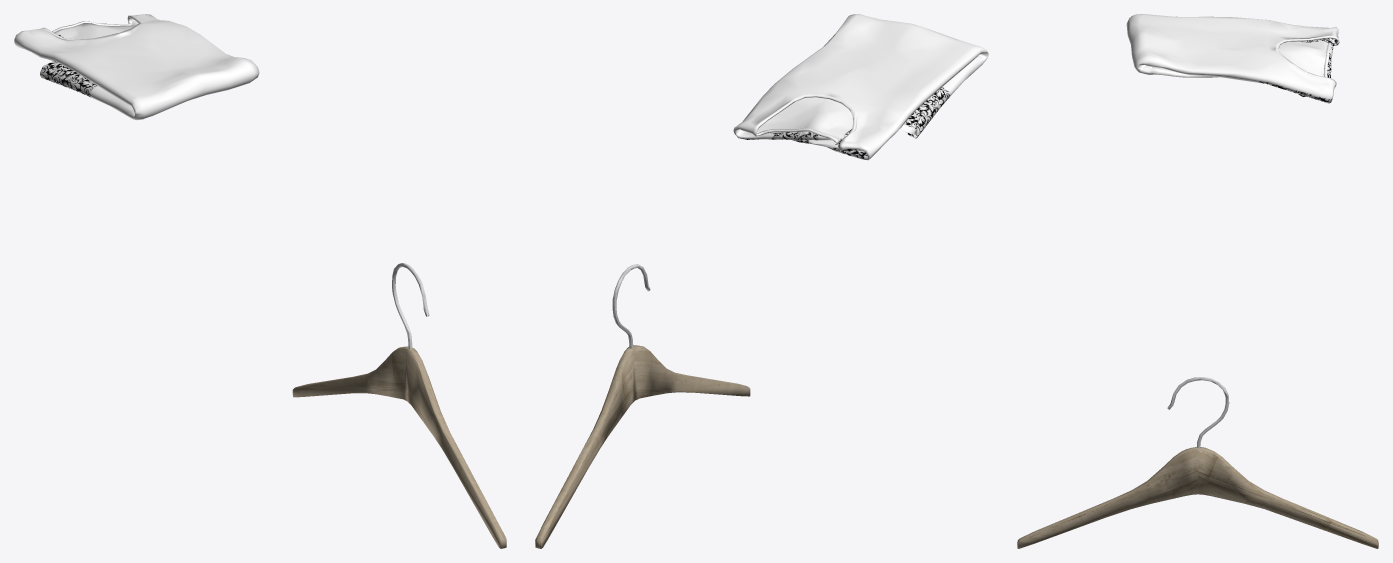
File: rod-cloth4453.glb
3 views of the same model, side by side, from view 1: azimuth 30°, elevation 25°; view 2: azimuth 150°, elevation 25°; view 3: azimuth 270°, elevation 25° (orthographic). The views are drawn at different scales.
Parts seen in each view (by area): view 1: cloth4453.001, Hangers_for_clothes089.001; view 2: cloth4453.001, Hangers_for_clothes089.001; view 3: cloth4453.001, Hangers_for_clothes089.001.
Part boxes in pixels (x1=…): cloth4453.001: x1=14, y1=14, x2=259, y2=120; Hangers_for_clothes089.001: x1=292, y1=263, x2=506, y2=548; cloth4453.001: x1=733, y1=14, x2=988, y2=160; Hangers_for_clothes089.001: x1=535, y1=264, x2=750, y2=548; cloth4453.001: x1=1126, y1=14, x2=1339, y2=103; Hangers_for_clothes089.001: x1=1017, y1=377, x2=1378, y2=548.
Size of the model in its own units: 0.4019 by 0.5536 by 0.4372.
3 materials, 2 textured.
